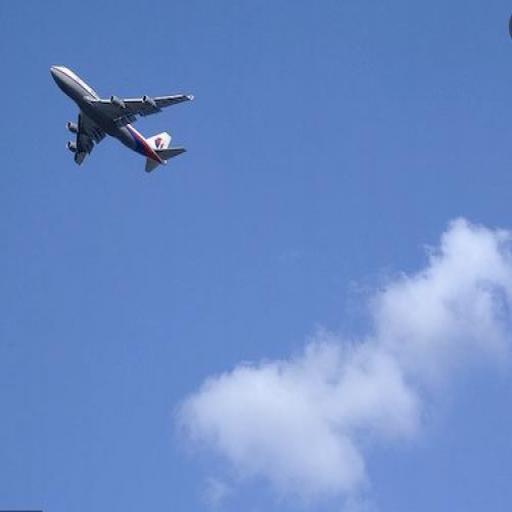aircraft: (50, 64, 195, 175)
